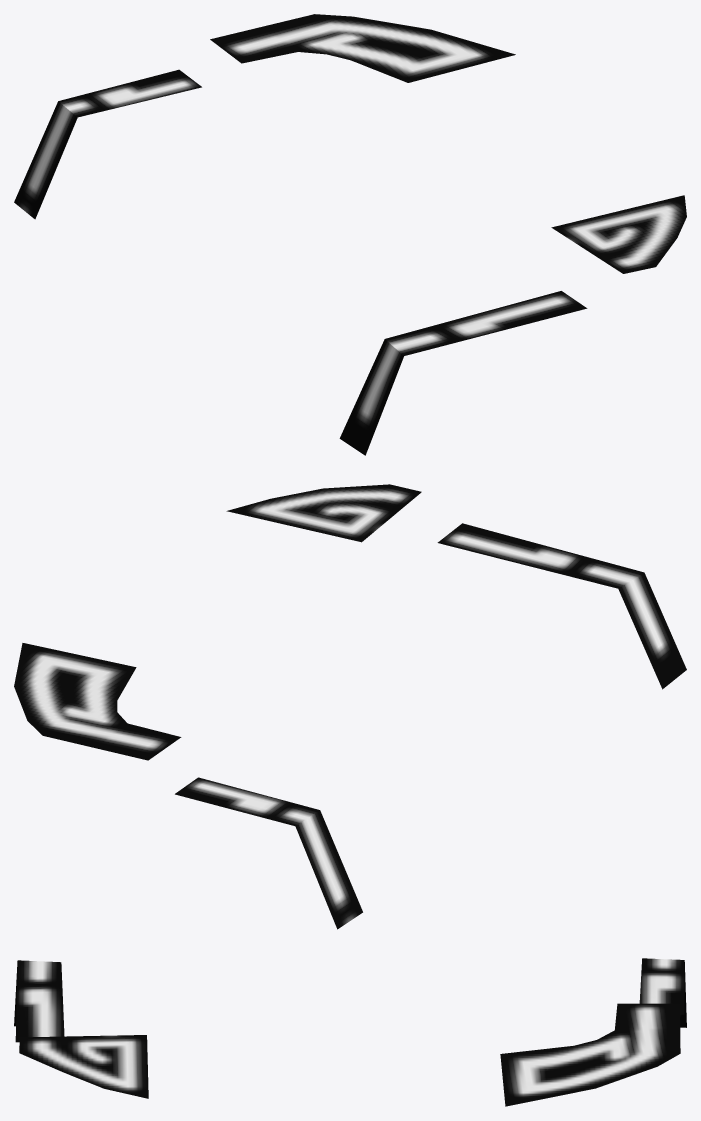
File: Post_left.fbx
3 views of the same model, one above another, from view 1: azimuth 30°, elevation 25°; view 2: azimuth 150°, elevation 25°; view 3: azimuth 270°, elevation 25° (orthographic). The views are drawn at different scales.
Parts seen in each view (by area): view 1: Post_left; view 2: Post_left; view 3: Post_left.
Boxes of the visible parts, x1,y1,x2,y2 form: Post_left: [14, 14, 686, 455]; Post_left: [14, 484, 686, 929]; Post_left: [14, 958, 686, 1106].
Size of the model in its own units: 391 by 108 by 577.
Materials: 1 (1 with a texture image).
